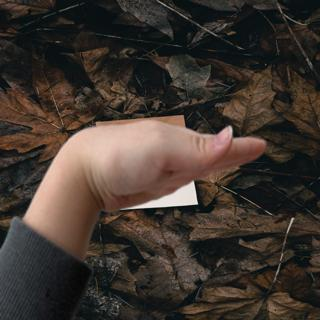Wait: (50, 114, 271, 218)
